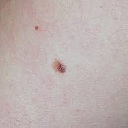Melanoma: (50, 58, 68, 76)
